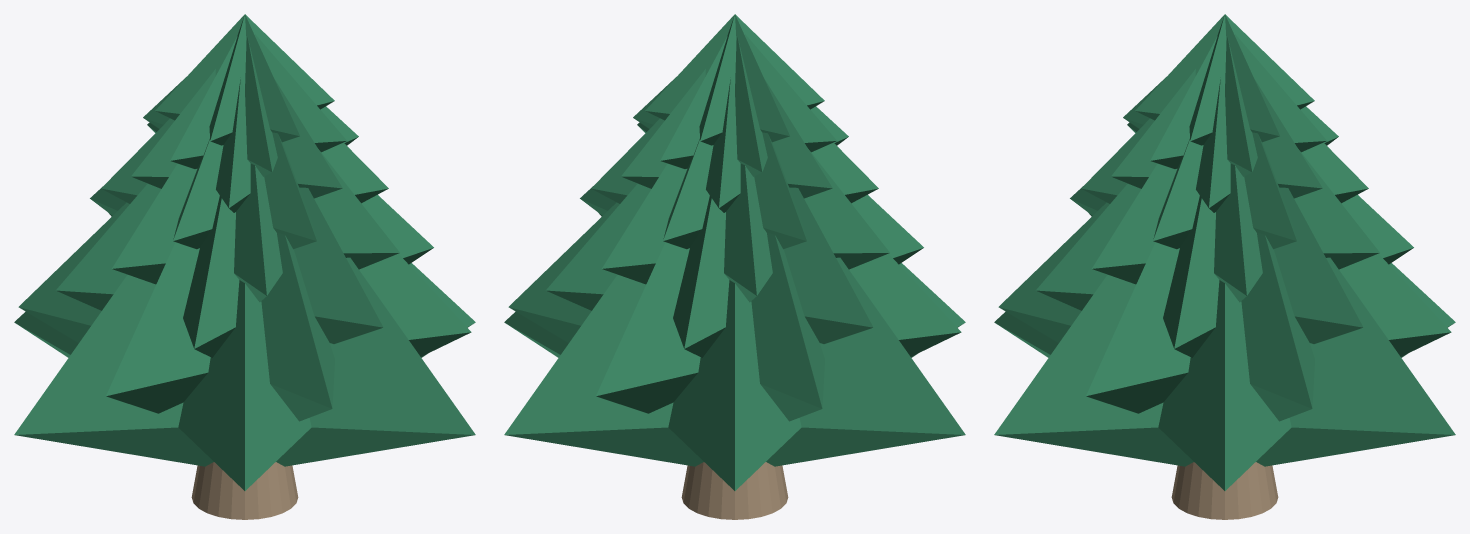
File: tree_3.glb
3 renders of one model, left to right at view 1: azimuth 30°, elevation 25°; view 2: azimuth 150°, elevation 25°; view 3: azimuth 270°, elevation 25°, orthographic.
Visible parts, largest first — view 1: Mesh_Mesh_head_geo.001_lambert2SG.001; view 2: Mesh_Mesh_head_geo.001_lambert2SG.001; view 3: Mesh_Mesh_head_geo.001_lambert2SG.001.
Boxes of the visible parts, bbox=[...] form: Mesh_Mesh_head_geo.001_lambert2SG.001: bbox=[14, 14, 475, 519]; Mesh_Mesh_head_geo.001_lambert2SG.001: bbox=[504, 14, 965, 519]; Mesh_Mesh_head_geo.001_lambert2SG.001: bbox=[994, 14, 1455, 519].
Size of the model in its own units: 40 by 40 by 34.64.
